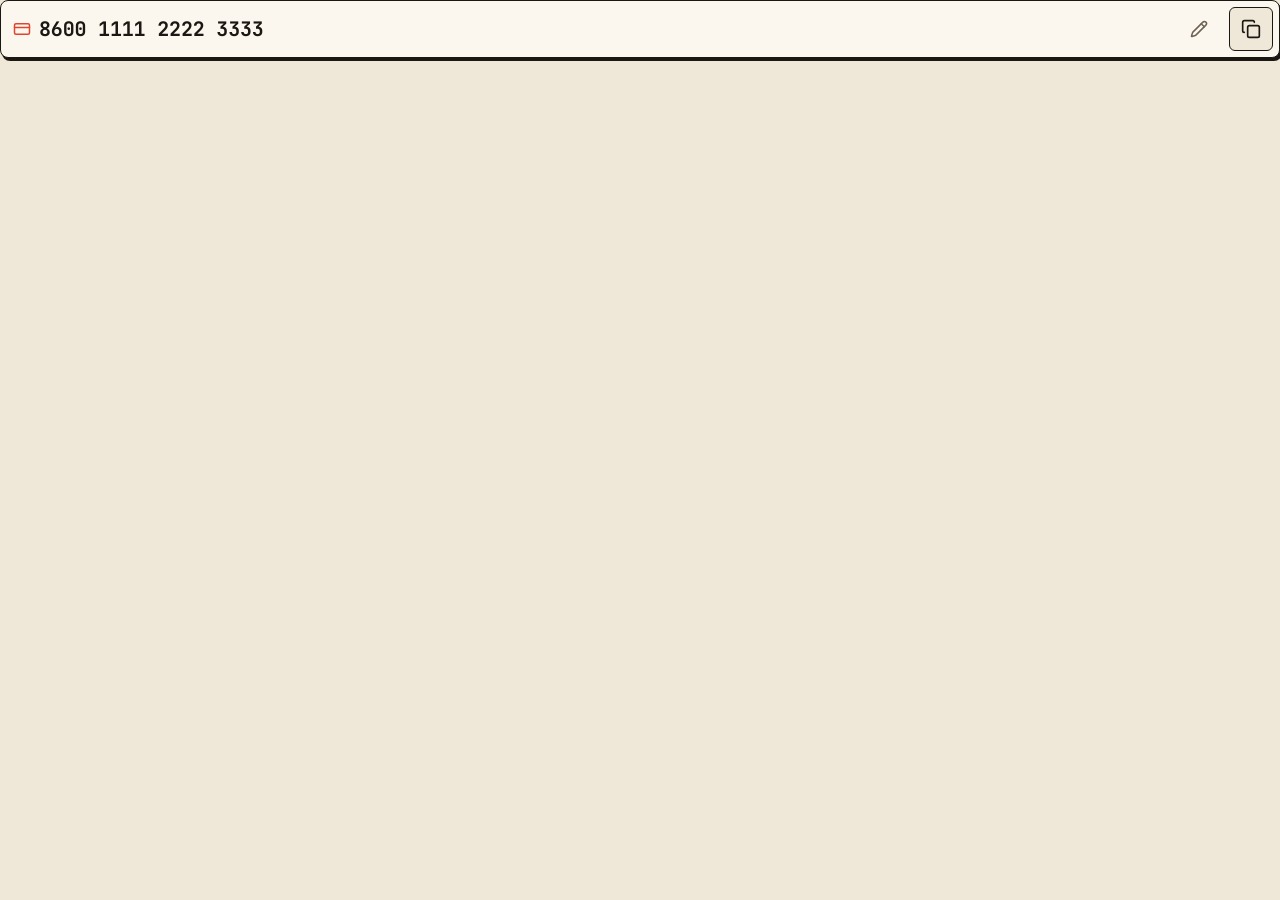
Test: PaymentCard compact mode › shows no field until the saved cards are in
Click the button named "Edit payment details". click: [1199, 29]
box: [1177,7,1221,51]
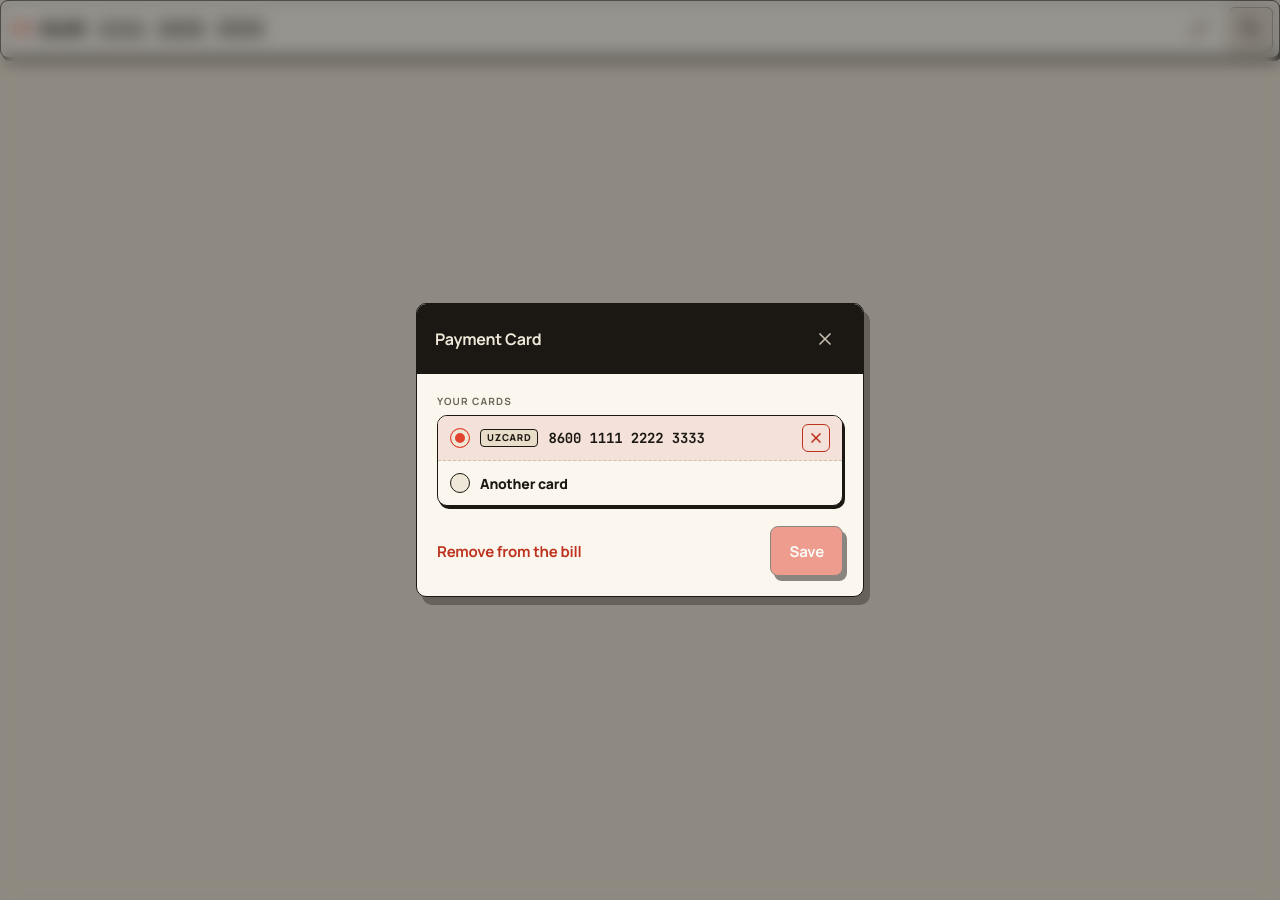
Now the dialog "Payment Card" is shown, box [416,303,864,597]
Now the radio button labelled "UZCARD 8600 1111 2222 3333" is checked, box [450,428,470,448]
